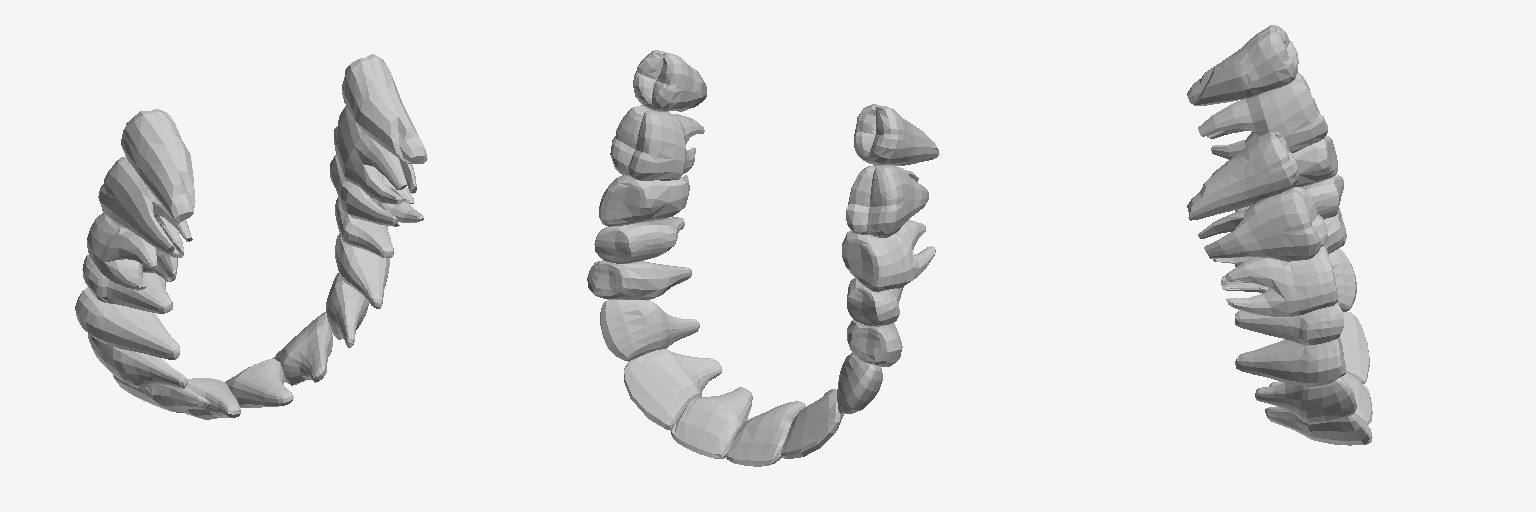
File: Female_Skeletal_Teeth_Upper.obj
3 views of the same model, side by side, from view 1: azimuth 30°, elevation 25°; view 2: azimuth 150°, elevation 25°; view 3: azimuth 270°, elevation 25° (orthographic).
Parts seen in each view (by area): view 1: Female_Skeletal_Teeth_Upper; view 2: Female_Skeletal_Teeth_Upper; view 3: Female_Skeletal_Teeth_Upper.
Part boxes in pixels (left/top/right/bottom): Female_Skeletal_Teeth_Upper: left=75, top=54, right=427, bottom=419; Female_Skeletal_Teeth_Upper: left=587, top=50, right=939, bottom=466; Female_Skeletal_Teeth_Upper: left=1187, top=25, right=1372, bottom=445.
Bounding box in the file's own units: 0.4801 × 0.5241 × 0.2523.